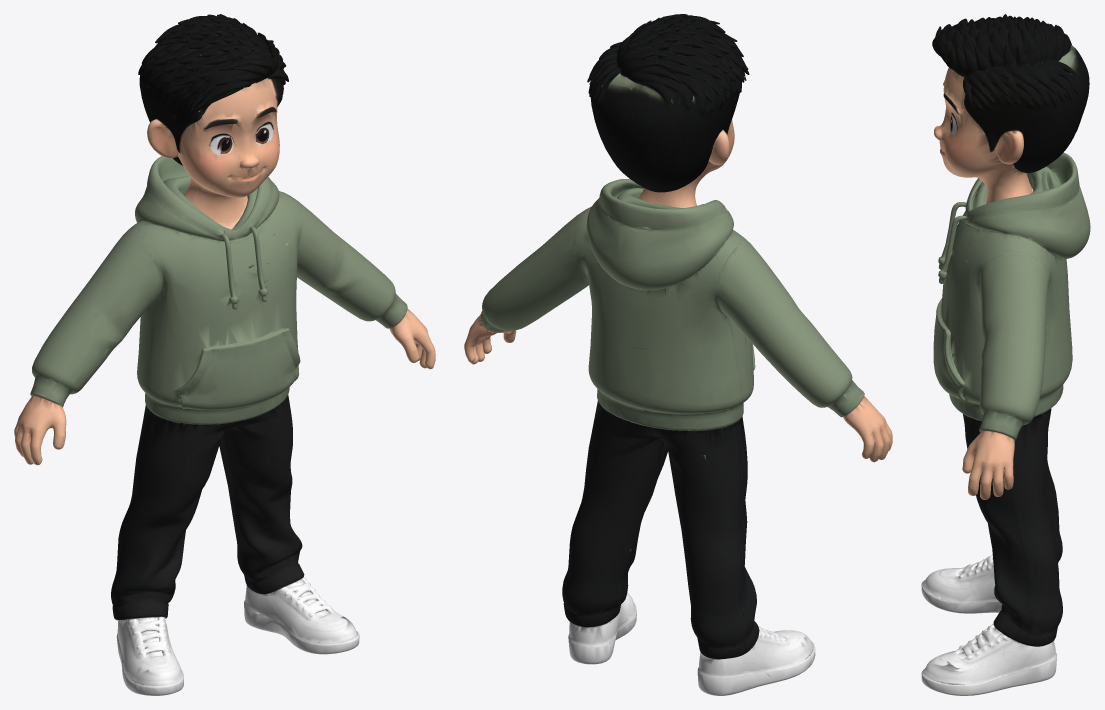
Rendered from jongwoo-v2-upload.fbx.
3 renders of one model, left to right at view 1: azimuth 30°, elevation 25°; view 2: azimuth 150°, elevation 25°; view 3: azimuth 270°, elevation 25°, orthographic.
Parts seen in each view (by area): view 1: JongwooV2; view 2: JongwooV2; view 3: JongwooV2.
Part boxes in pixels (x1,y1,x2,y2): JongwooV2: (14, 14, 435, 695); JongwooV2: (464, 14, 892, 695); JongwooV2: (921, 14, 1090, 695).
Size of the model in its own units: 131 by 190 by 46.66.
1 material, 1 textured.
